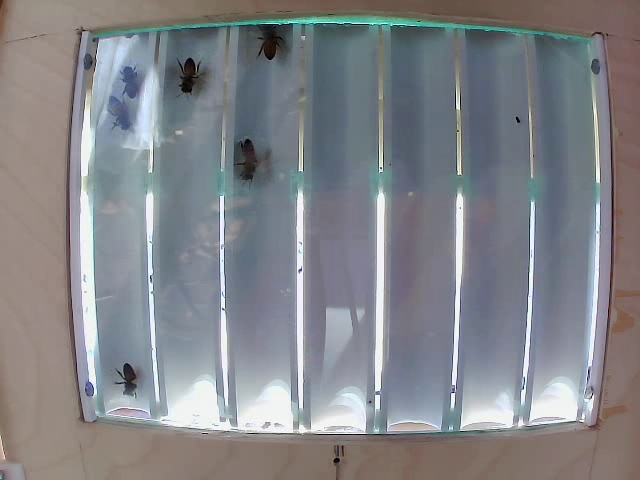bee: (227, 128, 266, 187), (106, 353, 145, 403), (121, 68, 160, 106), (177, 54, 212, 91), (260, 19, 287, 63), (113, 94, 141, 132)
